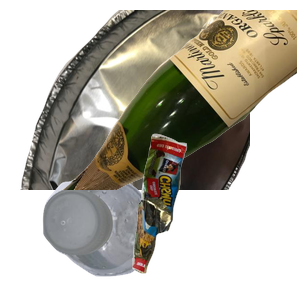glass: (60, 10, 300, 190)
metal: (18, 10, 258, 190)
plastic: (40, 170, 187, 300)
trash: (130, 131, 300, 300)
